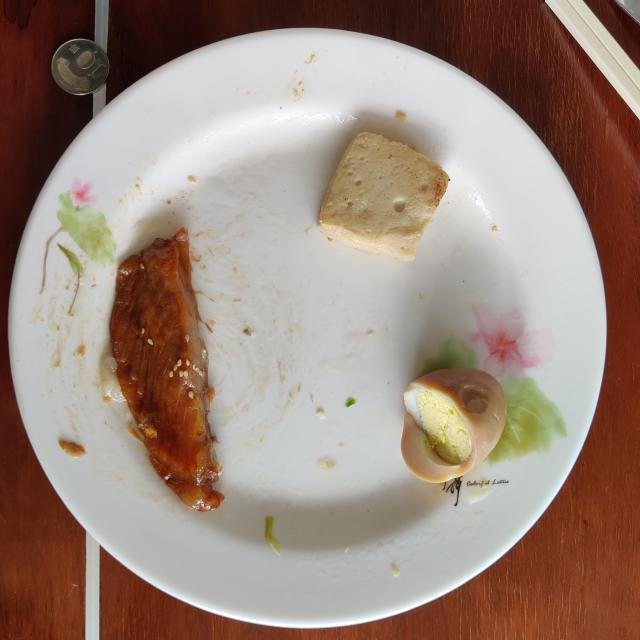Kabayaki sea bream fillet: (110, 228, 224, 511)
coin: (51, 39, 109, 95)
creamy tofu -without sauce-: (318, 132, 449, 261)
soy egg: (401, 369, 506, 482)
